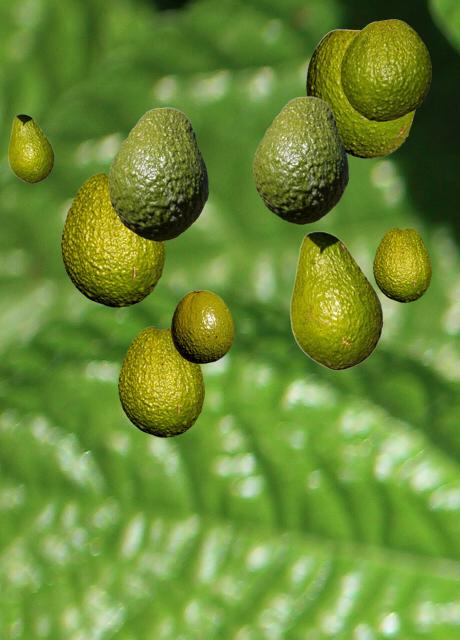avocado: (306, 29, 414, 157), (61, 172, 164, 306), (108, 107, 207, 240), (290, 231, 382, 369), (253, 96, 347, 223), (118, 326, 203, 436), (340, 19, 430, 120), (171, 290, 233, 362), (373, 227, 430, 301), (8, 114, 53, 182)
